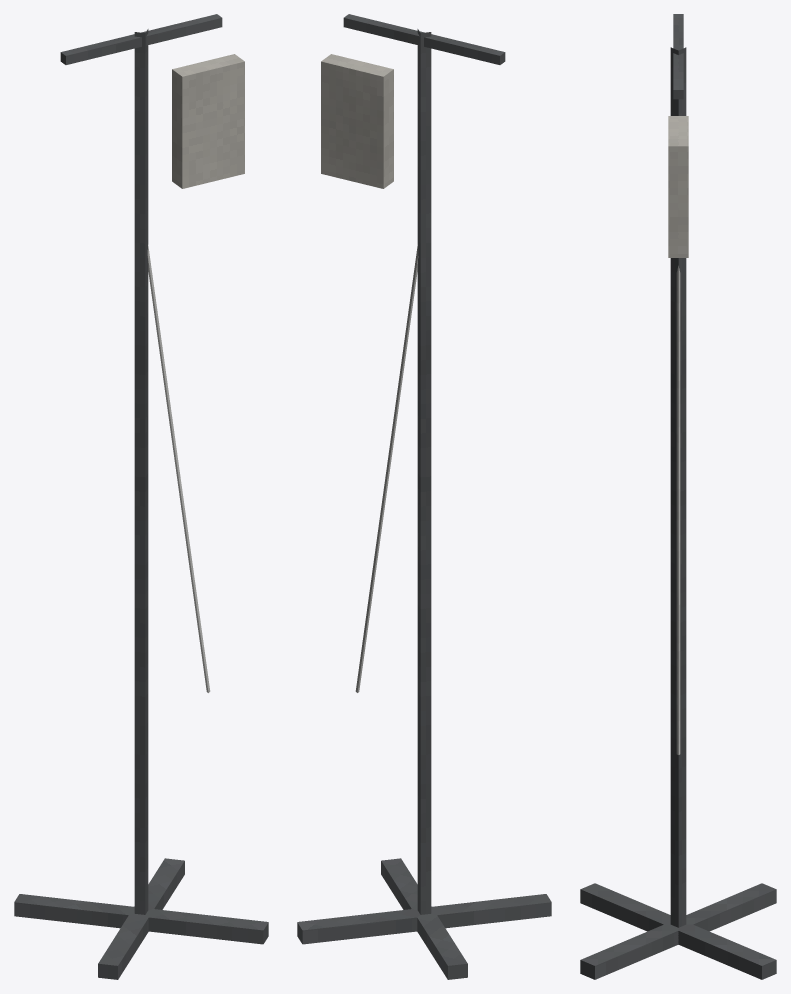
The model's file is int_iv_stand.glb.
3 renders of one model, left to right at view 1: azimuth 30°, elevation 25°; view 2: azimuth 150°, elevation 25°; view 3: azimuth 270°, elevation 25°, orthographic.
Parts seen in each view (by area): view 1: detail; view 2: detail; view 3: detail.
Boxes of the visible parts, x1,y1,x2,y2 form: detail: (14, 14, 268, 979); detail: (297, 14, 551, 979); detail: (580, 14, 776, 979).
Bounding box in the file's own units: 0.4109 × 1.92 × 0.3818.
3 materials, 3 textured.
